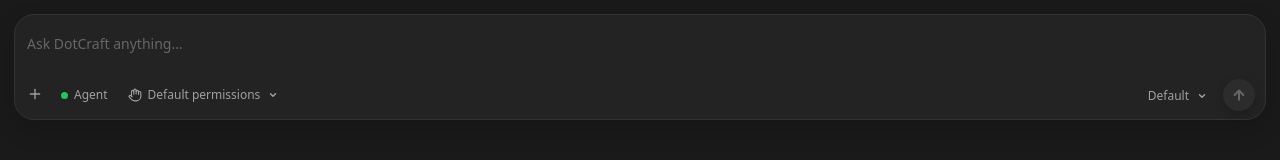
Scenario: InputComposer custom command expansion › opens a compact attachment menu with image and file actions
Click the button named "Add attachment": coordinates (35, 94) [25,84,45,104]
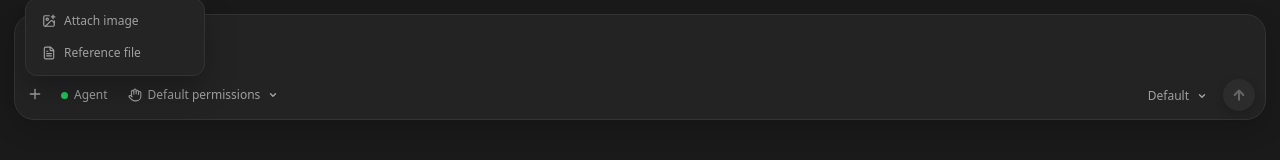
Check: the menu item "Attach image" is shown, box [32,4,198,36]
Check: the menu item "Reference file" is shown, box [32,36,198,68]
